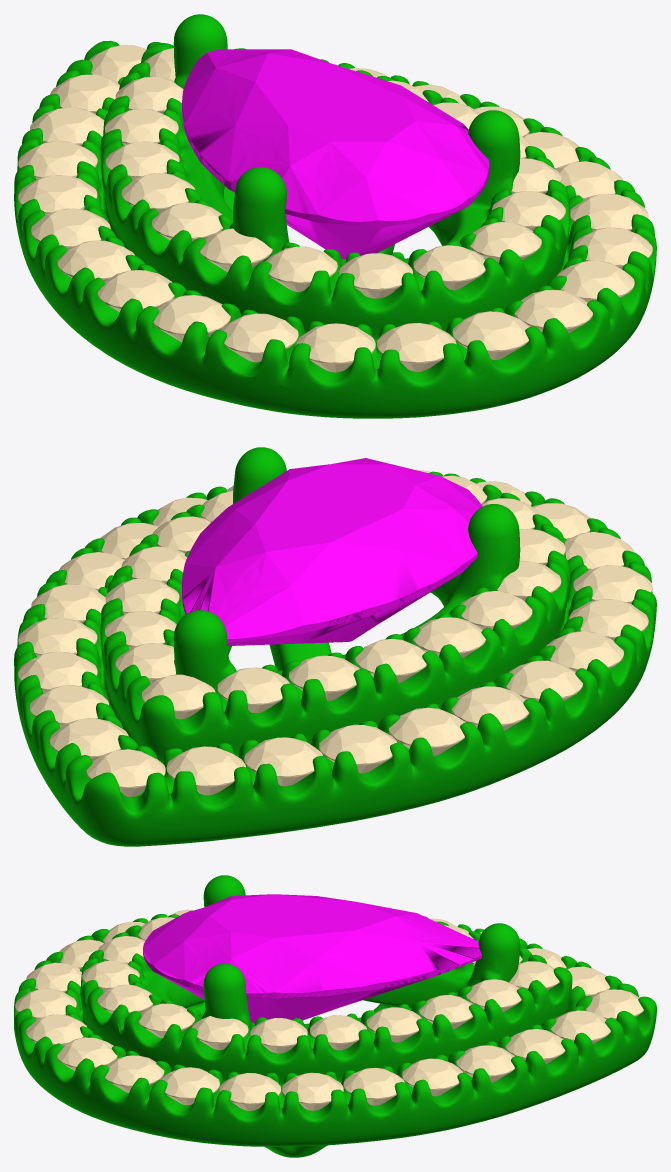
3 views of the same model, one above another, from view 1: azimuth 30°, elevation 25°; view 2: azimuth 150°, elevation 25°; view 3: azimuth 270°, elevation 25° (orthographic). The views are drawn at different scales.
Visible parts, largest first — view 1: Metal01, Diamond_Pear, Diamond_Round.022, Diamond_Round.021, Diamond_Round.020, Diamond_Round.019, Diamond_Round.018, Diamond_Round.023, Diamond_Round.017, Diamond_Round.034, Diamond_Round.035, Diamond_Round (+23 smaller); view 2: Metal01, Diamond_Pear, Diamond_Round.012, Diamond_Round.013, Diamond_Round.011, Diamond_Round.014, Diamond_Round.015, Diamond_Round.010, Diamond_Round.016, Diamond_Round.017, Diamond_Round.009, Diamond_Round.018 (+25 smaller); view 3: Metal01, Diamond_Pear, Diamond_Round.003, Diamond_Round.004, Diamond_Round.006, Diamond_Round.005, Diamond_Round.007, Diamond_Round.001, Diamond_Round.002, Diamond_Round.008, Diamond_Round.039, Diamond_Round.009 (+17 smaller).
Boxes of the visible parts, x1=… form: Metal01: x1=14, y1=14, x2=656, y2=418; Diamond_Pear: x1=182, y1=49, x2=489, y2=259; Diamond_Round.022: x1=452, y1=311, x2=529, y2=359; Diamond_Round.021: x1=377, y1=323, x2=456, y2=371; Diamond_Round.020: x1=296, y1=323, x2=375, y2=372; Diamond_Round.019: x1=221, y1=313, x2=298, y2=362; Diamond_Round.018: x1=153, y1=295, x2=230, y2=342; Diamond_Round.023: x1=514, y1=289, x2=592, y2=333; Diamond_Round.017: x1=97, y1=270, x2=174, y2=312; Diamond_Round.034: x1=339, y1=253, x2=412, y2=298; Diamond_Round.035: x1=413, y1=245, x2=485, y2=290; Diamond_Round: x1=556, y1=260, x2=634, y2=302; Metal01: x1=14, y1=447, x2=656, y2=846; Diamond_Pear: x1=182, y1=458, x2=482, y2=645; Diamond_Round.012: x1=244, y1=737, x2=322, y2=786; Diamond_Round.013: x1=319, y1=724, x2=397, y2=773; Diamond_Round.011: x1=166, y1=746, x2=245, y2=795; Diamond_Round.014: x1=389, y1=707, x2=464, y2=756; Diamond_Round.015: x1=451, y1=686, x2=529, y2=730; Diamond_Round.010: x1=86, y1=749, x2=165, y2=797; Diamond_Round.016: x1=506, y1=660, x2=582, y2=701; Diamond_Round.017: x1=546, y1=631, x2=623, y2=671; Diamond_Round.009: x1=49, y1=718, x2=128, y2=760; Diamond_Round.018: x1=569, y1=599, x2=648, y2=640; Metal01: x1=14, y1=875, x2=656, y2=1157; Diamond_Pear: x1=143, y1=894, x2=481, y2=1023; Diamond_Round.003: x1=219, y1=1073, x2=280, y2=1110; Diamond_Round.004: x1=282, y1=1072, x2=343, y2=1110; Diamond_Round.006: x1=402, y1=1058, x2=462, y2=1096; Diamond_Round.005: x1=343, y1=1067, x2=404, y2=1105; Diamond_Round.007: x1=456, y1=1045, x2=514, y2=1082; Diamond_Round.001: x1=105, y1=1055, x2=164, y2=1092; Diamond_Round.002: x1=160, y1=1067, x2=219, y2=1105; Diamond_Round.008: x1=505, y1=1029, x2=565, y2=1064; Diamond_Round.039: x1=250, y1=1018, x2=307, y2=1053; Diamond_Round.009: x1=551, y1=1010, x2=610, y2=1044.
Size of the model in its own units: 11.04 by 6.07 by 15.13.
